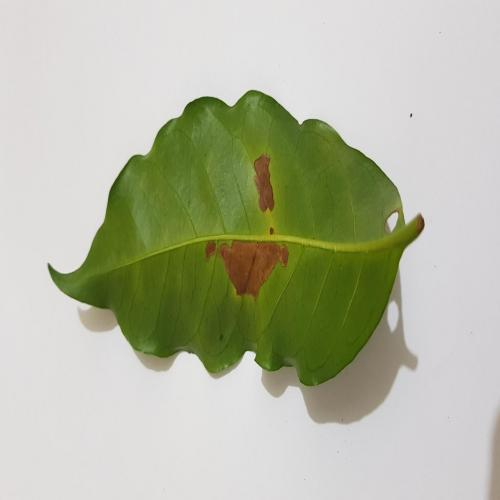leaf: (254, 155, 274, 212)
